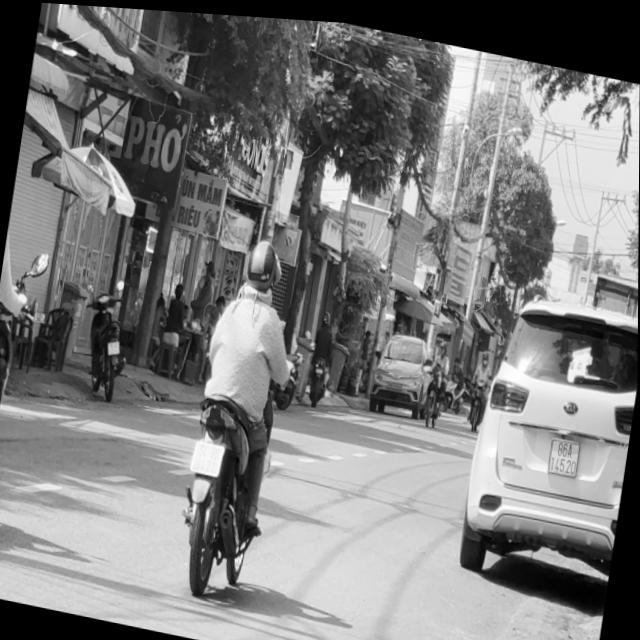helmet: (242, 232, 283, 295)
licenseplate: (168, 221, 310, 603), (0, 144, 46, 544)
nohelmet: (190, 436, 225, 475)
